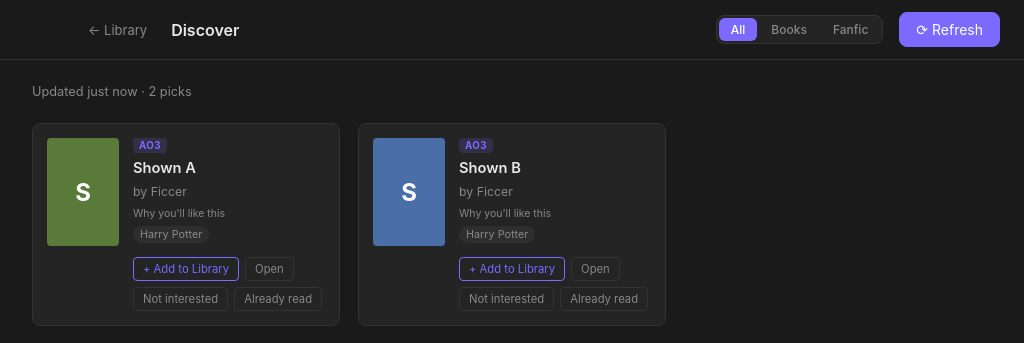
it: DiscoverView › refresh passes the currently-shown card ids so the engine can rotate past them
This screenshot has width=1024, height=343.
Expected: the text "Shown A" is shown, left=133, top=159, right=196, bottom=177
Click the button "⟳ Refresh" at (950, 30), box left=899, top=12, right=1000, bottom=47
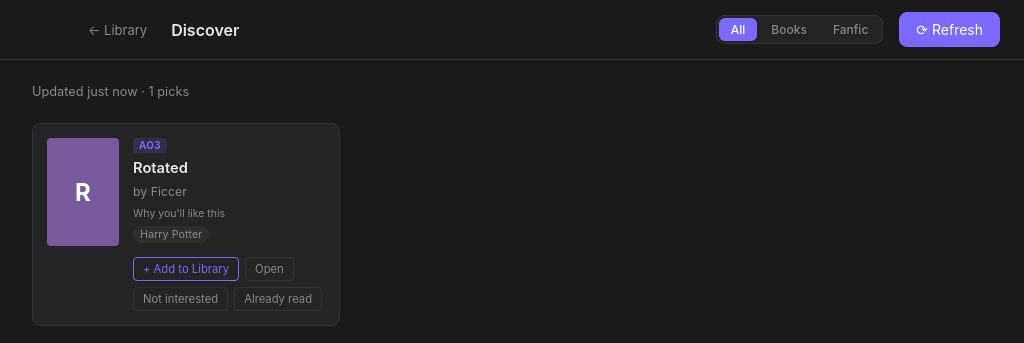
Result: the text "Rotated" is shown at left=133, top=159, right=188, bottom=177
